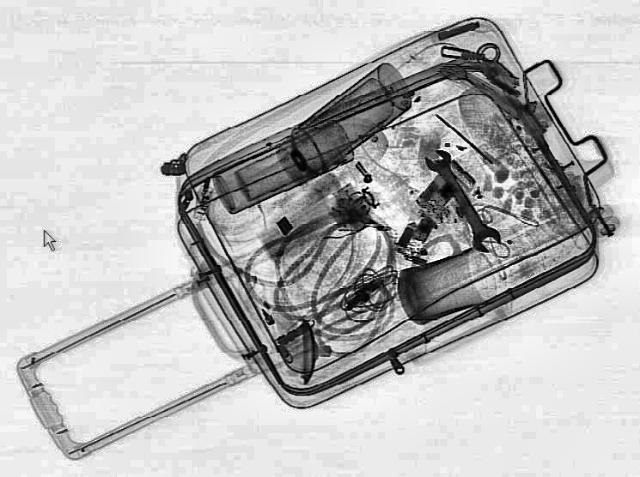Wrench: (417, 147, 507, 257)
